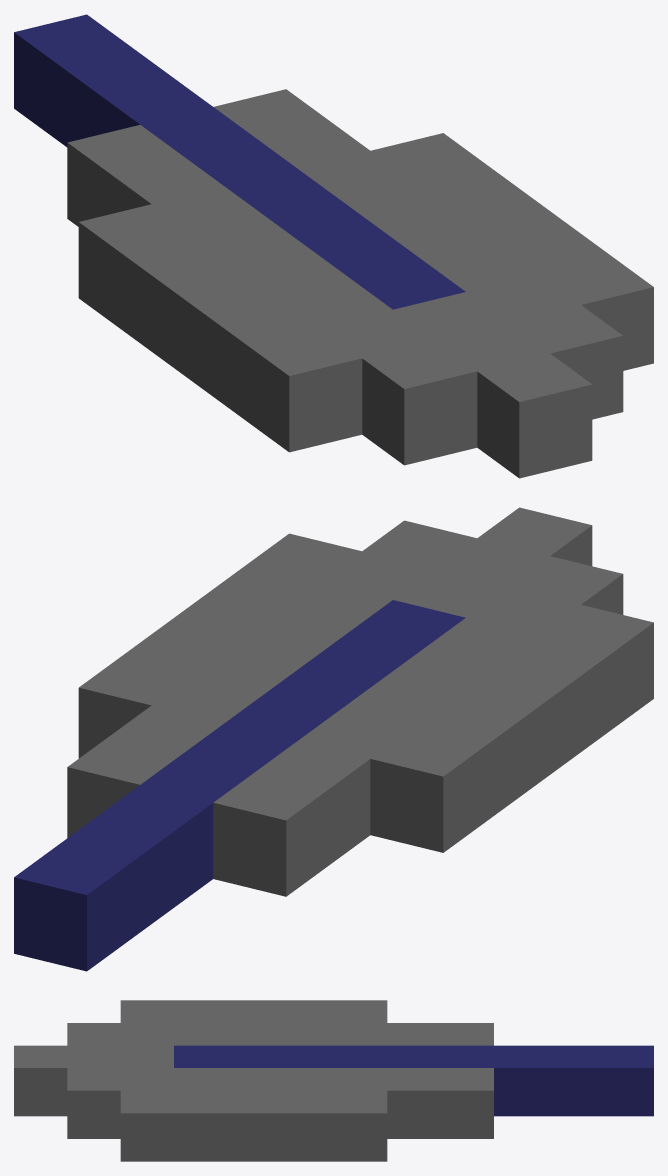
The model's file is speeder_0.glb.
3 views of the same model, one above another, from view 1: azimuth 30°, elevation 25°; view 2: azimuth 150°, elevation 25°; view 3: azimuth 270°, elevation 25° (orthographic). The views are drawn at different scales.
Size of the model in its own units: 5 by 1 by 12.
